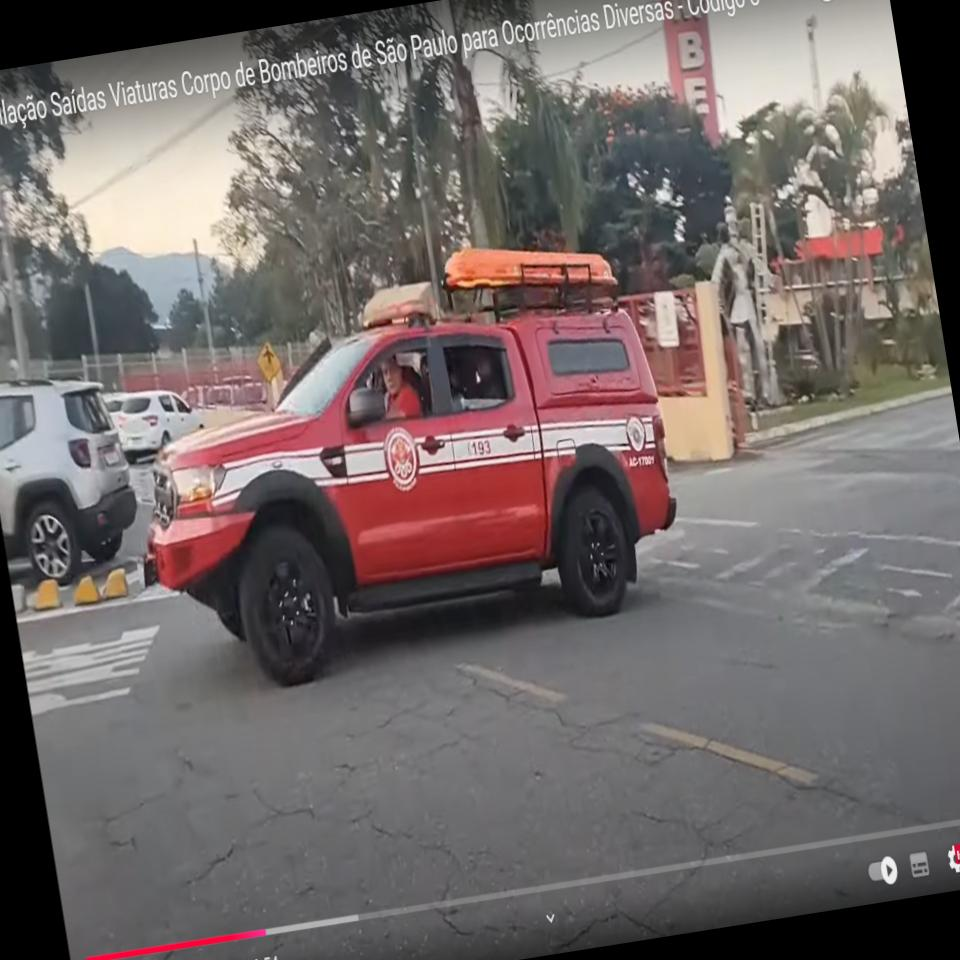viatura: (107, 221, 695, 703)
